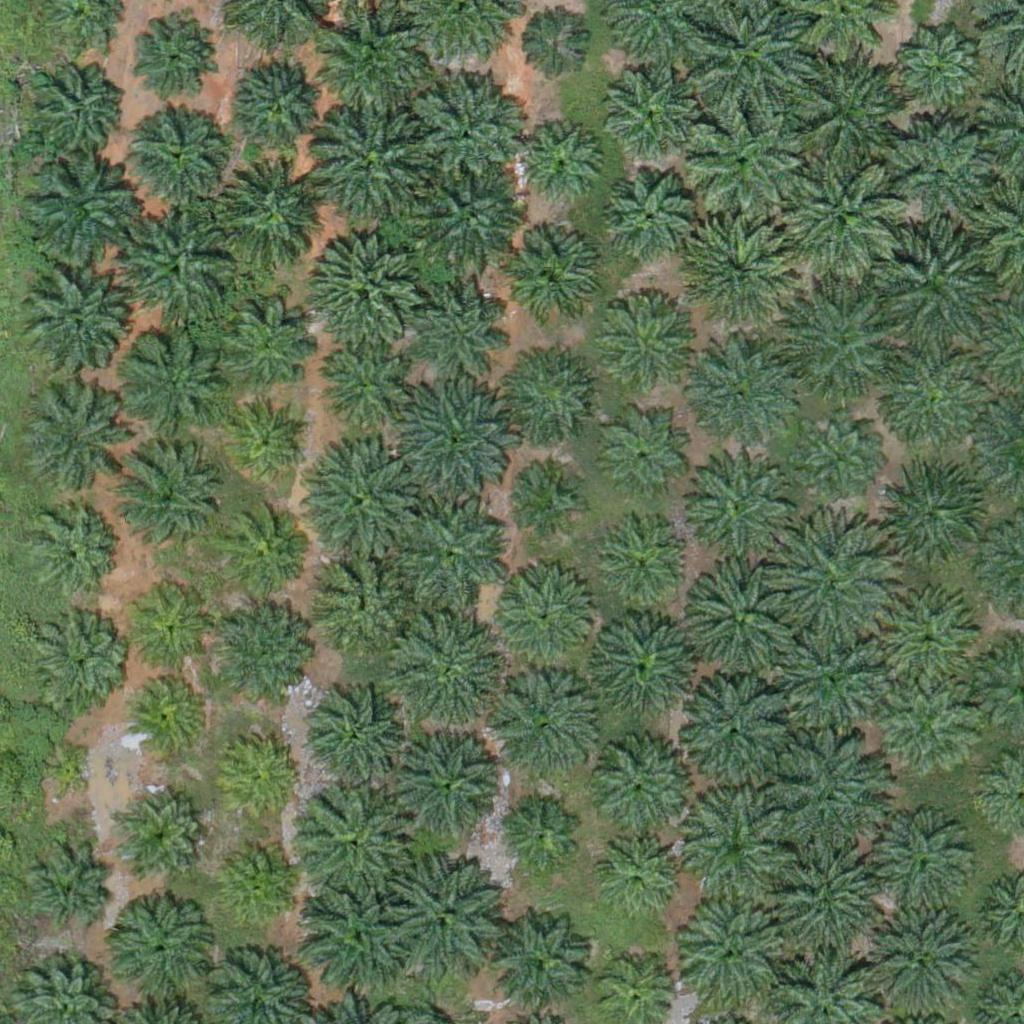Kelapa_Sawit: (764, 516, 889, 642), (786, 155, 911, 281), (298, 778, 423, 904), (297, 863, 422, 989), (385, 845, 510, 971), (679, 784, 804, 910), (767, 723, 892, 849), (761, 839, 886, 964), (679, 217, 792, 331), (683, 562, 796, 676), (586, 610, 699, 724), (211, 158, 324, 272), (875, 226, 988, 339), (789, 288, 902, 401), (690, 102, 803, 215), (683, 451, 796, 564), (491, 565, 604, 678), (393, 614, 506, 727), (397, 380, 510, 493), (318, 8, 431, 121), (309, 109, 422, 222), (306, 229, 419, 342), (204, 289, 317, 402), (669, 897, 782, 1010), (864, 669, 977, 782), (314, 447, 426, 561), (116, 323, 228, 437), (113, 439, 225, 553), (22, 155, 134, 269), (679, 678, 791, 792), (488, 671, 600, 785), (874, 342, 986, 455), (777, 625, 889, 738), (791, 55, 903, 168), (681, 340, 793, 453), (396, 498, 508, 611), (415, 160, 527, 273), (410, 73, 522, 186), (121, 214, 233, 327), (388, 729, 500, 842), (593, 733, 705, 846), (891, 121, 991, 222), (876, 585, 976, 686), (413, 267, 513, 368), (233, 51, 333, 152), (17, 387, 117, 488), (868, 806, 968, 907), (502, 229, 602, 329), (317, 550, 417, 650), (130, 105, 230, 205), (26, 607, 126, 707), (21, 274, 121, 374), (26, 58, 126, 158), (116, 896, 216, 996), (498, 918, 598, 1018), (216, 610, 304, 699), (223, 397, 311, 485), (890, 469, 978, 557), (599, 519, 687, 607), (603, 65, 691, 153), (513, 119, 601, 207), (312, 343, 400, 431), (215, 509, 303, 597), (124, 11, 212, 99), (26, 505, 114, 593), (126, 670, 214, 758), (606, 295, 693, 383), (605, 169, 692, 257), (507, 350, 594, 438), (128, 585, 215, 673), (313, 692, 400, 780), (514, 12, 589, 88), (225, 843, 300, 919), (902, 35, 977, 111), (609, 421, 684, 497), (122, 800, 197, 876), (223, 739, 298, 815), (508, 802, 583, 878), (803, 411, 878, 486), (40, 850, 115, 925), (605, 840, 680, 915), (516, 469, 579, 532), (37, 752, 87, 802)
